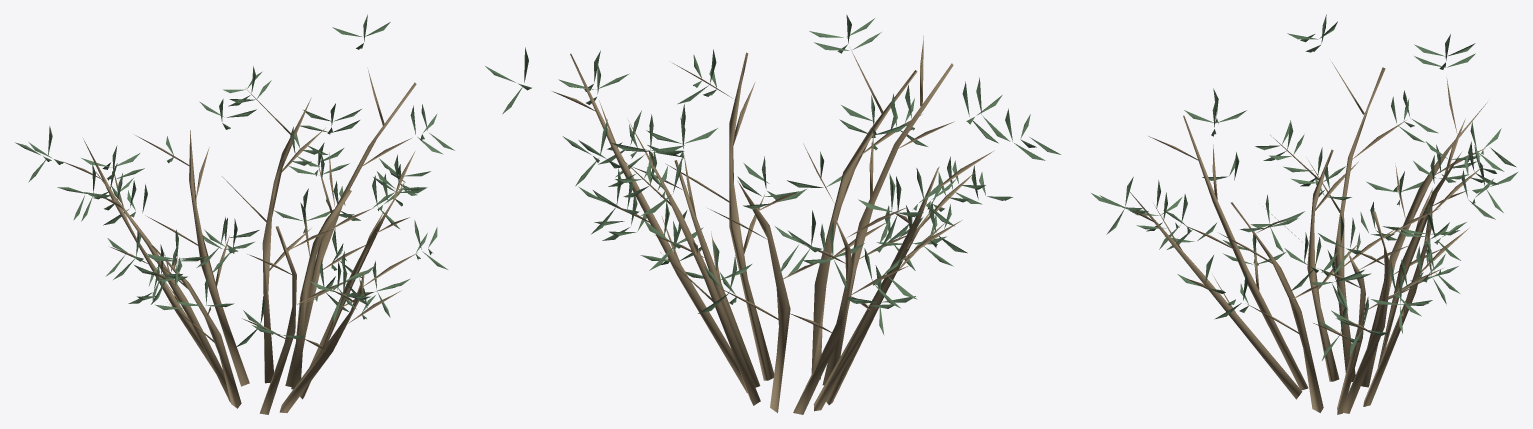
Rendered from Romarin_0_Niveau2.fbx.
3 views of the same model, side by side, from view 1: azimuth 30°, elevation 25°; view 2: azimuth 150°, elevation 25°; view 3: azimuth 270°, elevation 25° (orthographic). The views are drawn at different scales.
Parts seen in each view (by area): view 1: Romarin_0_Niveau2; view 2: Romarin_0_Niveau2; view 3: Romarin_0_Niveau2.
Boxes of the visible parts, x1,y1,x2,y2 form: Romarin_0_Niveau2: (15, 14, 454, 414); Romarin_0_Niveau2: (485, 14, 1060, 414); Romarin_0_Niveau2: (1091, 14, 1517, 414).
Bounding box in the file's own units: 59.74 × 42.66 × 53.07.
